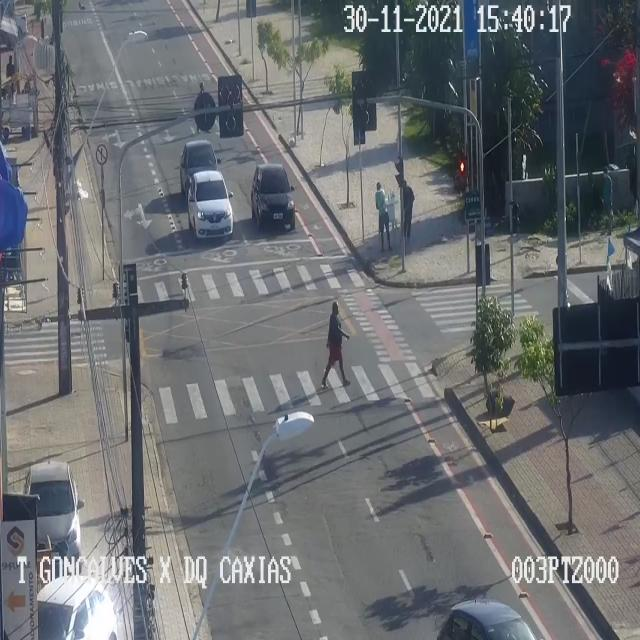Car: (426, 587, 555, 640), (24, 463, 83, 561), (37, 574, 119, 639), (188, 169, 234, 240), (251, 163, 297, 232), (180, 140, 221, 194)
